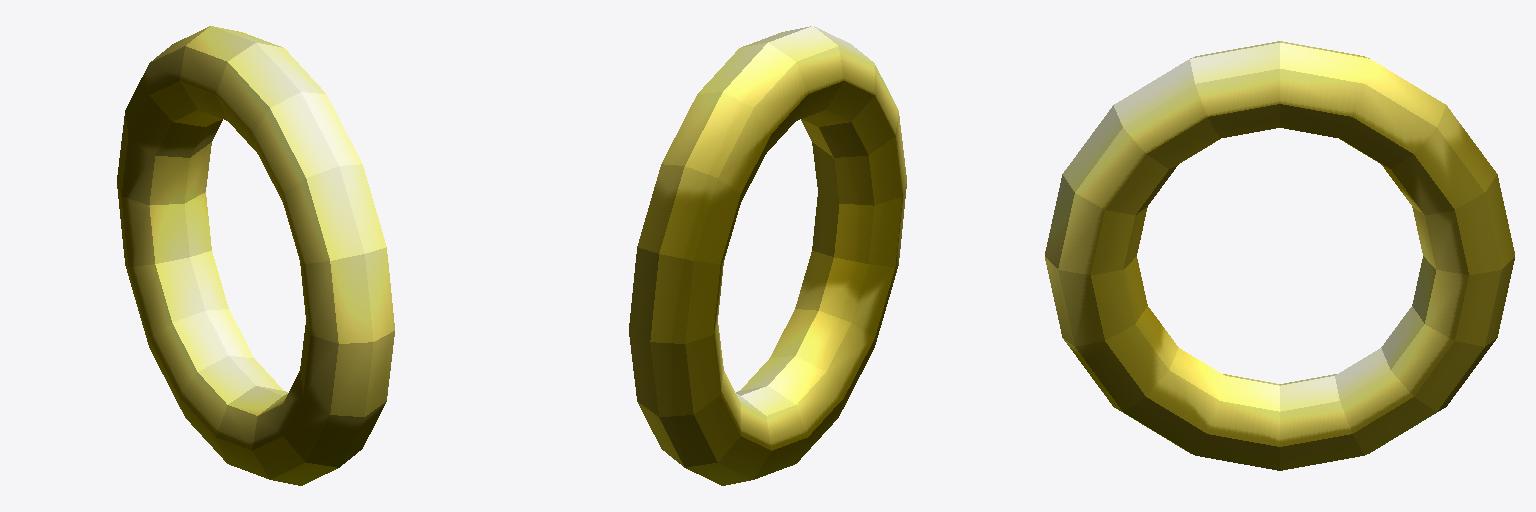
3 renders of one model, left to right at view 1: azimuth 30°, elevation 25°; view 2: azimuth 150°, elevation 25°; view 3: azimuth 270°, elevation 25°, orthographic.
Parts seen in each view (by area): view 1: Torus002; view 2: Torus002; view 3: Torus002.
Part boxes in pixels (x1,y1,x2,y2): Torus002: (117,26,394,485); Torus002: (629,26,906,485); Torus002: (1045,41,1514,470).
Size of the model in its own units: 5.63 by 28.71 by 28.71.
1 materials, 1 textured.